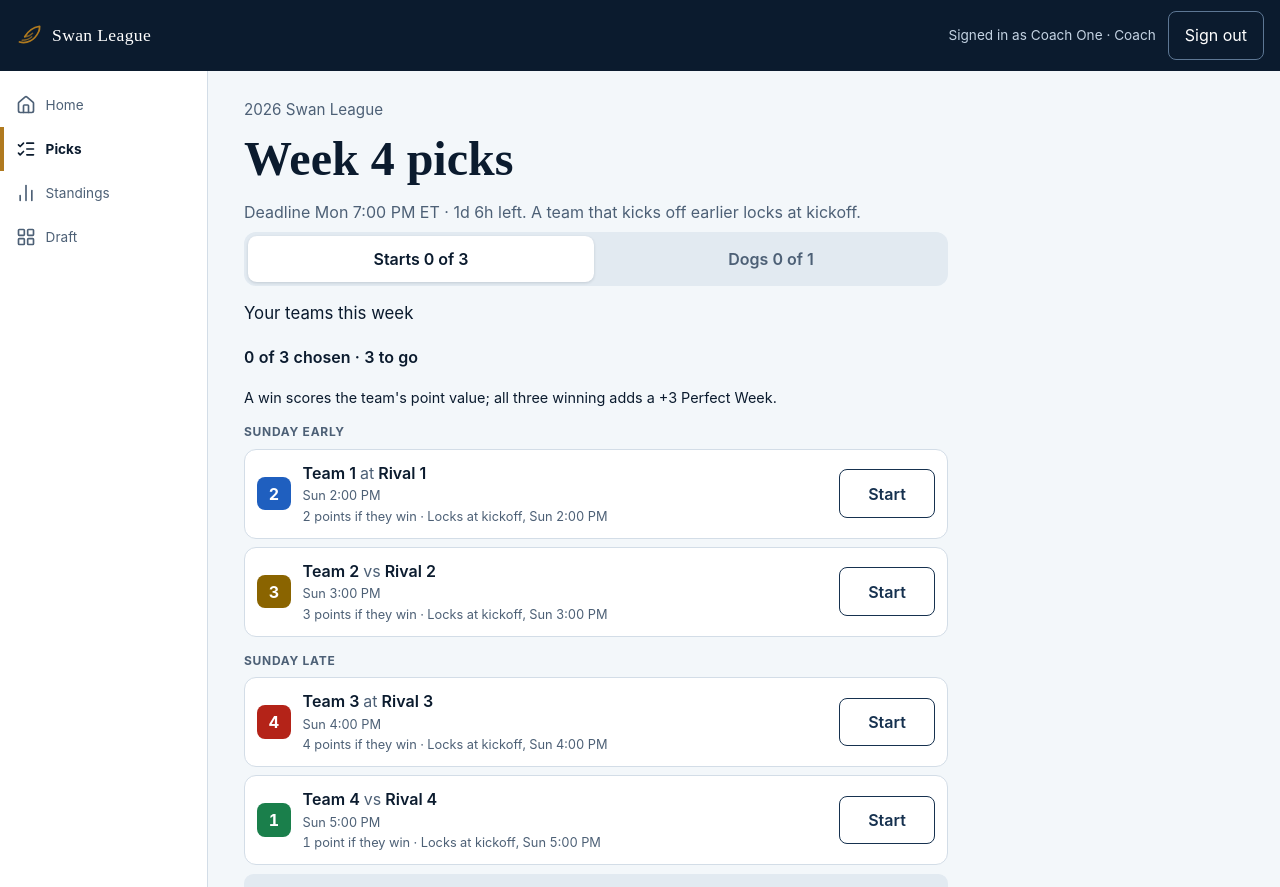
saving sends the chosen teams, dog and the revision it read, then shows the saved ballot
Click the button "Start" in the row of "Team 1" at (887, 494), box [839,469,935,518]
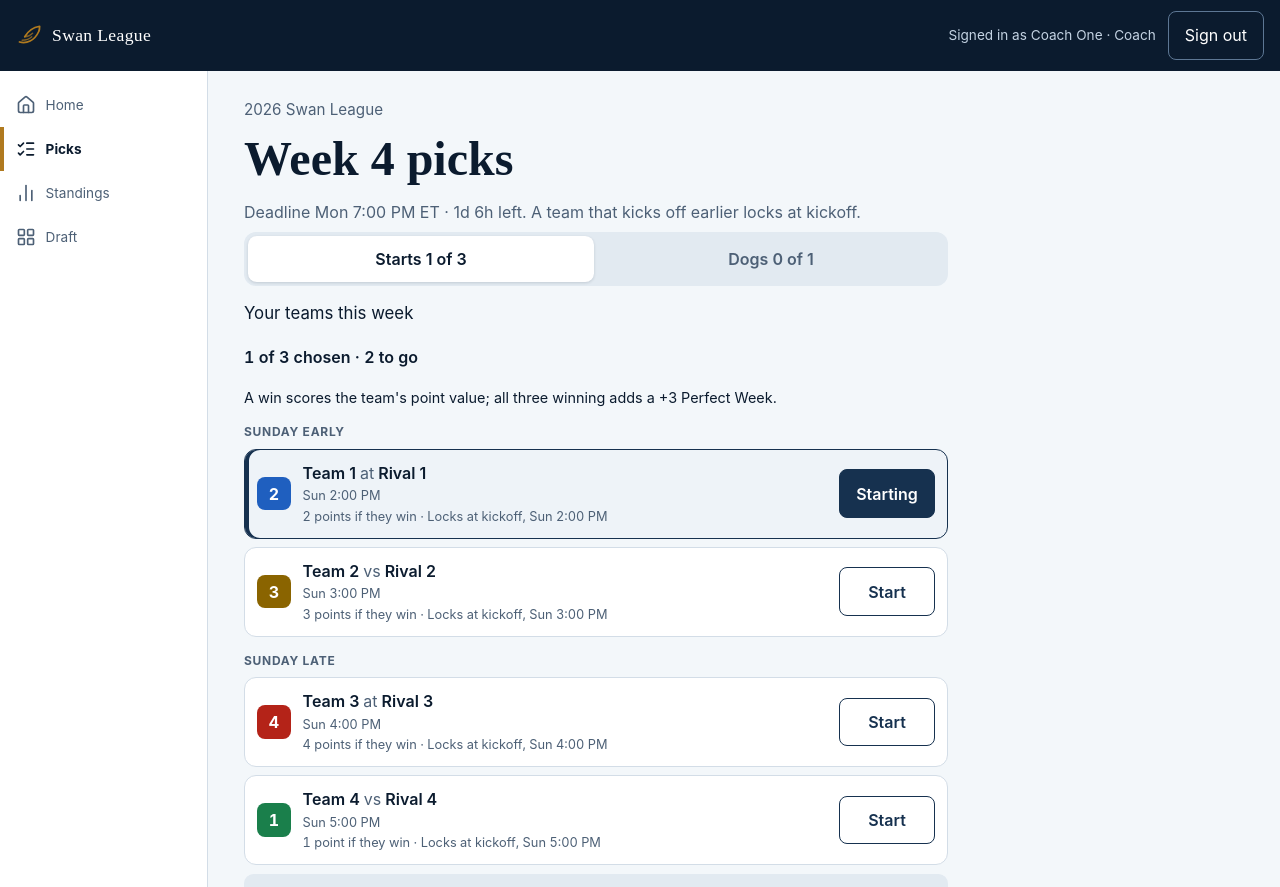
Click the button "Start" in the row of "Team 3" at (887, 722), box [839,698,935,746]
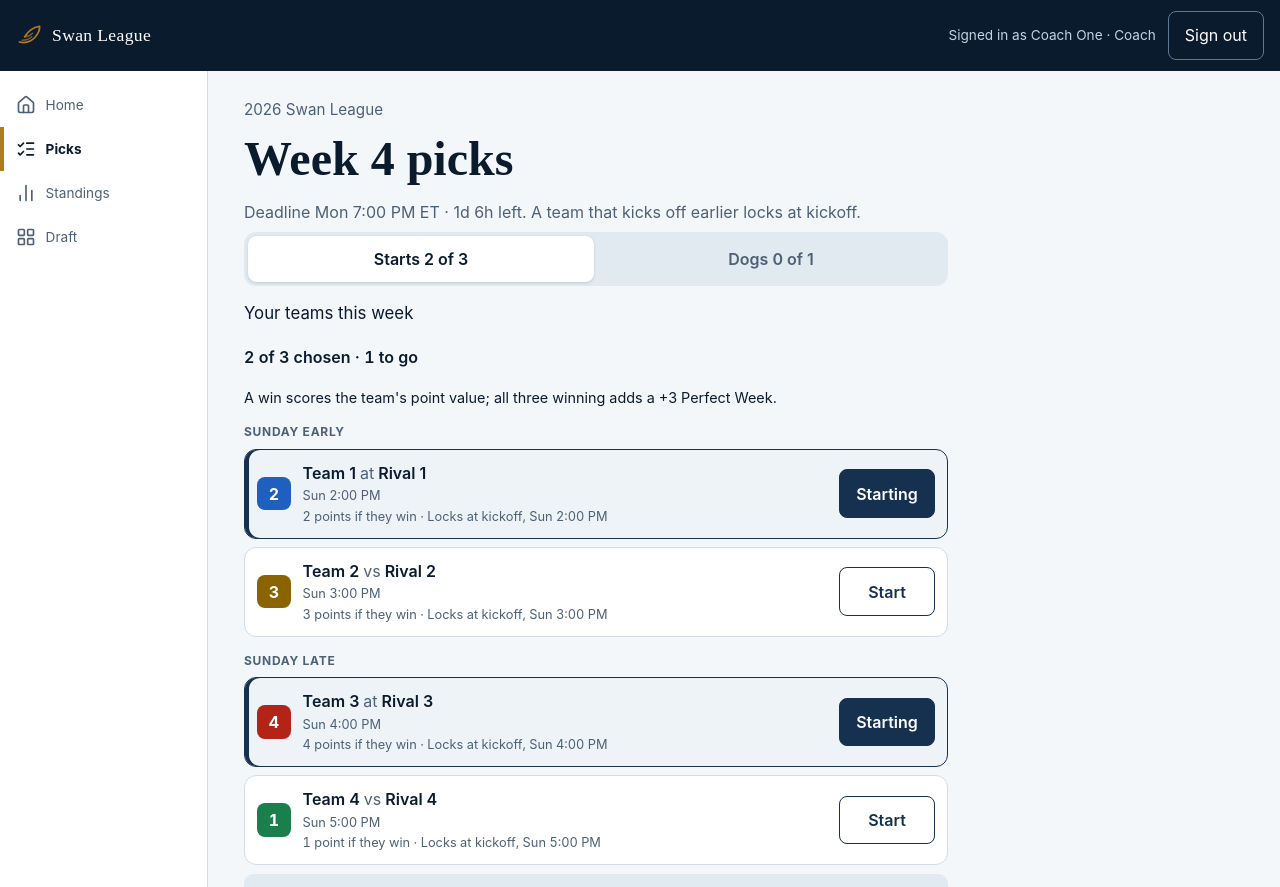
Click the button "Dogs 0 of 1" at (771, 259), box [598,236,944,282]
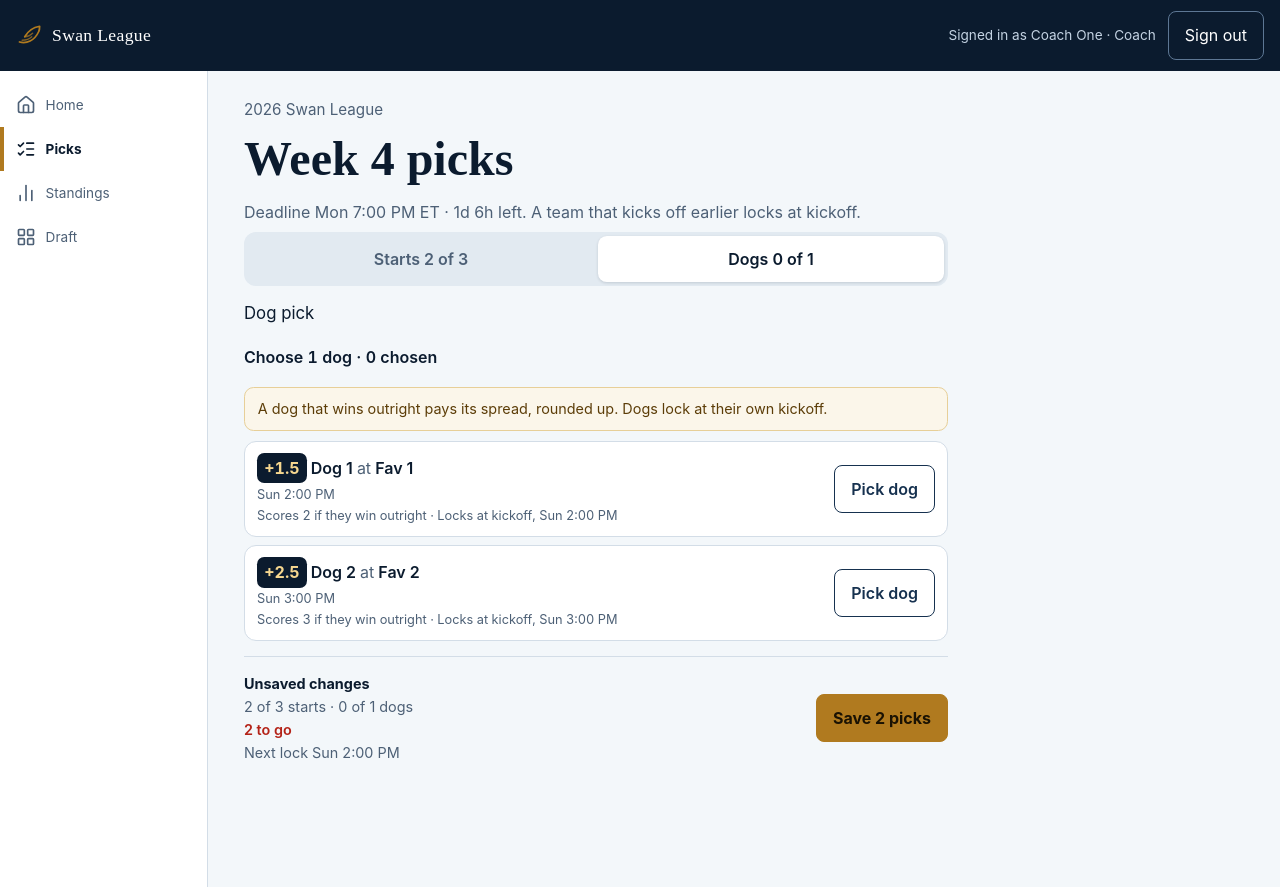
Click the button named "Pick dog Dog 2," at (885, 593), box [834,569,935,617]
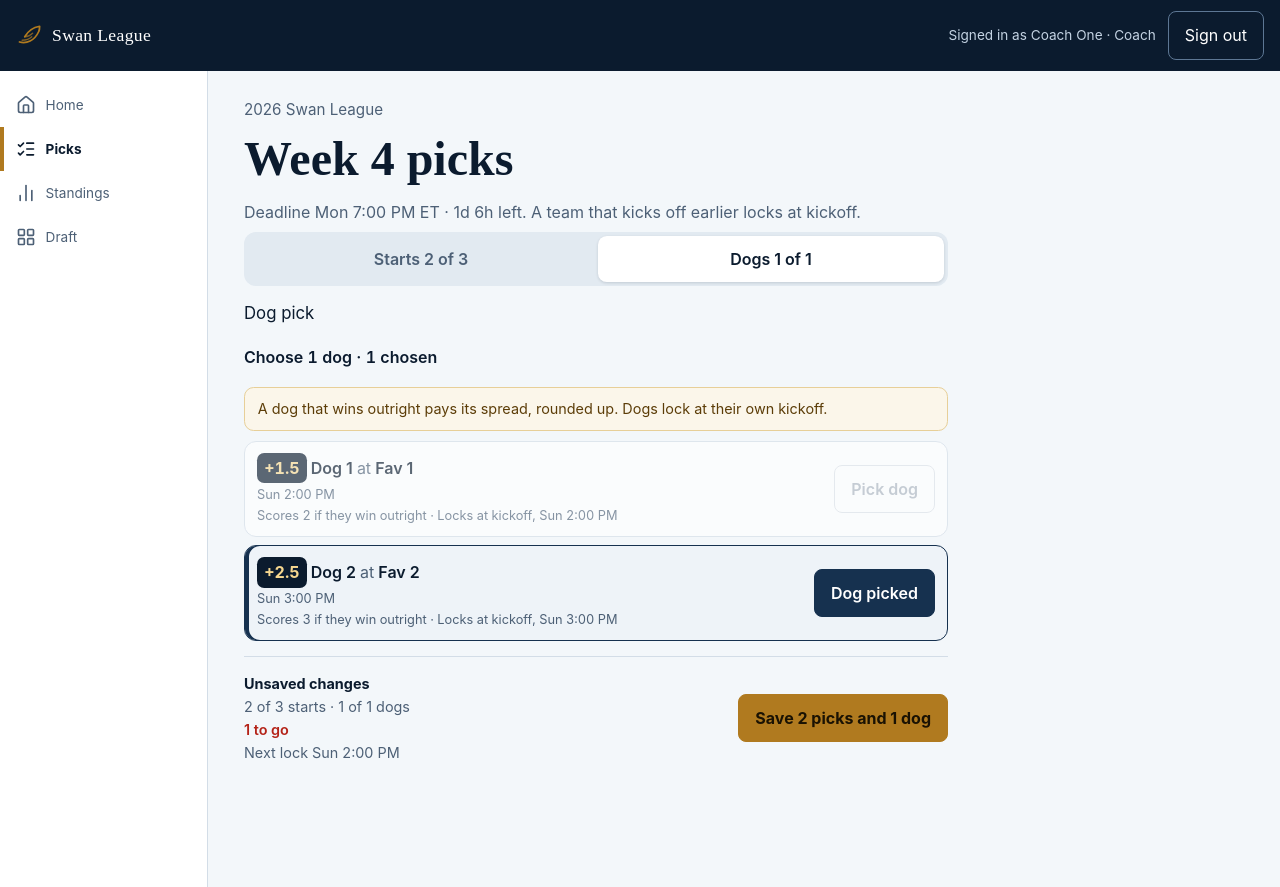
Click the button "Save 2 picks and 1 dog" at (843, 718), box [738,694,948,742]
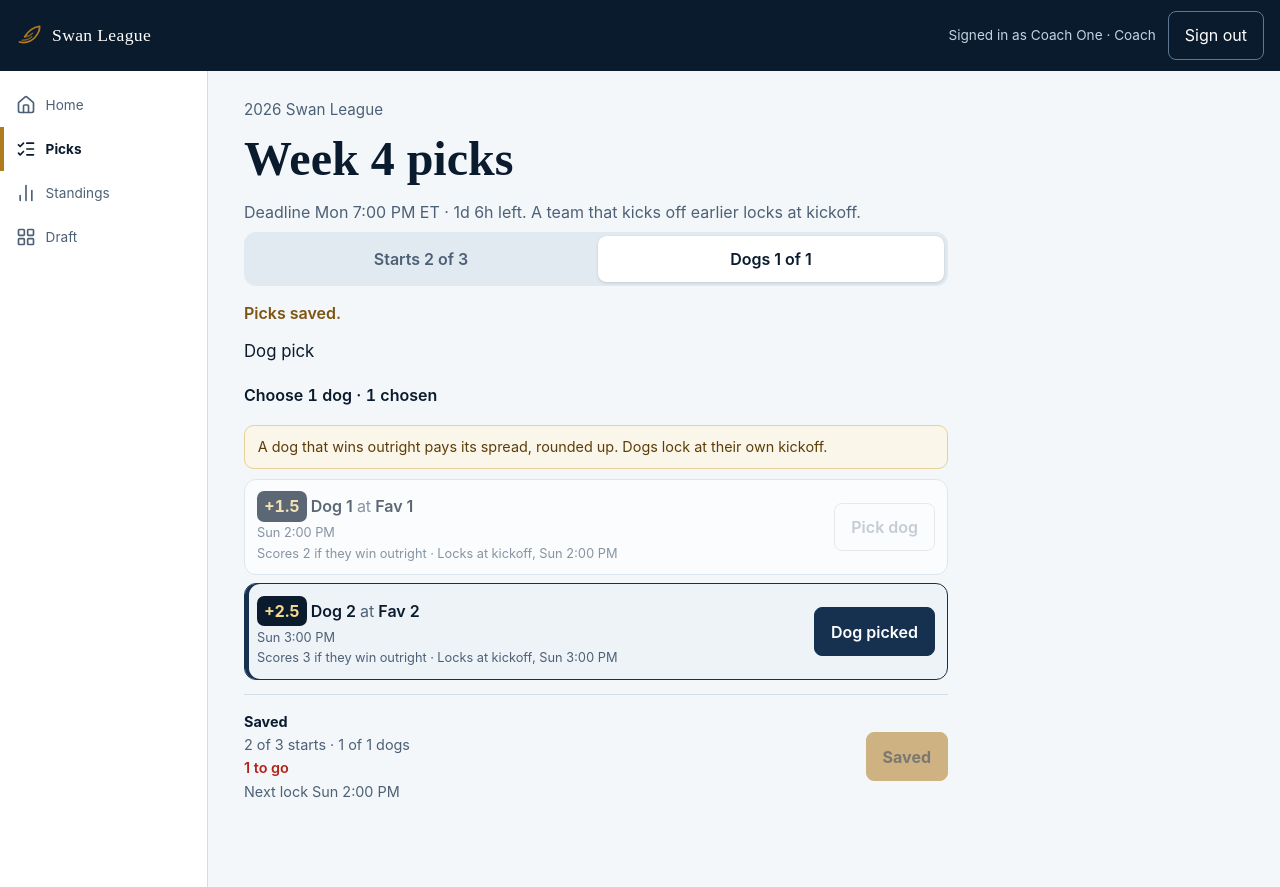
Expected: the text "Picks saved." is shown, [244,303,341,323]
Expected: the button "Saved" is disabled, [866,732,948,781]
